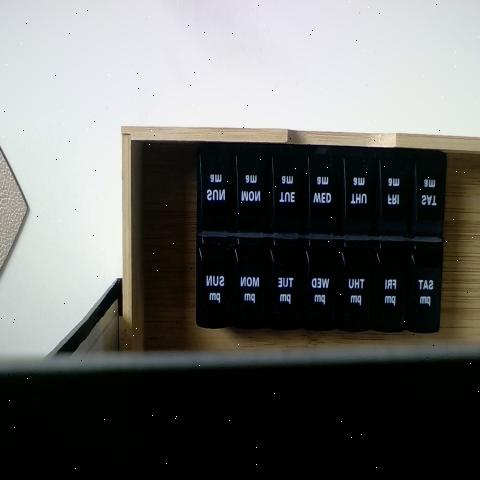FRI-am: (375, 149, 408, 235)
FRI-pm: (373, 241, 407, 337)
MON-am: (235, 143, 271, 234)
MON-pm: (229, 237, 268, 336)
SAT-am: (406, 149, 448, 238)
SAT-pm: (405, 238, 443, 332)
SUN-am: (199, 151, 233, 234)
SUN-pm: (198, 243, 234, 328)
THU-am: (340, 148, 379, 238)
THU-pm: (336, 240, 376, 334)
TUE-am: (271, 149, 307, 233)
TUE-pm: (268, 232, 305, 334)
WED-am: (305, 144, 339, 234)
WED-pm: (304, 231, 340, 330)
